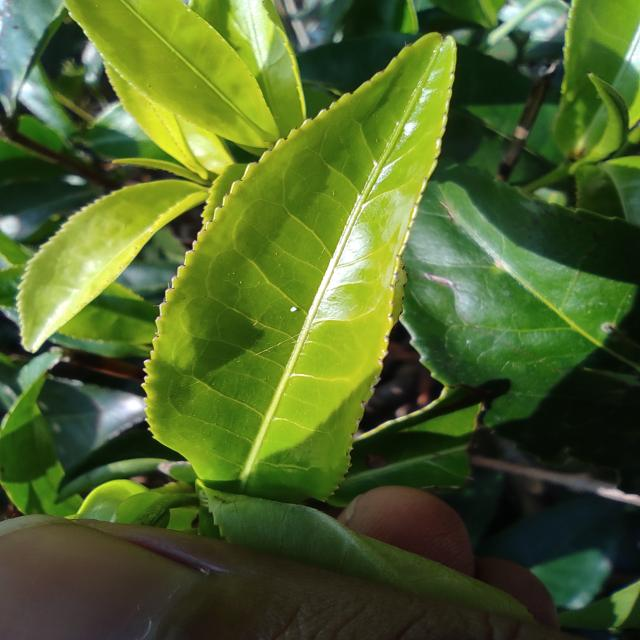Category C 4-7 days: (134, 14, 494, 512)
